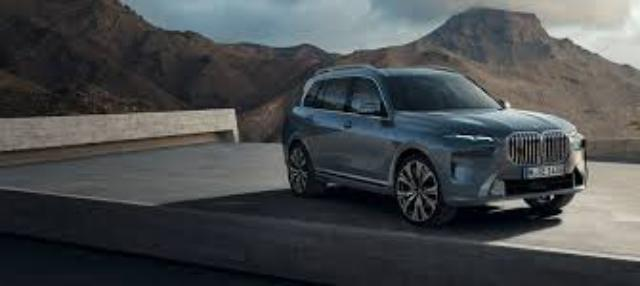bmw: (282, 64, 588, 229)
